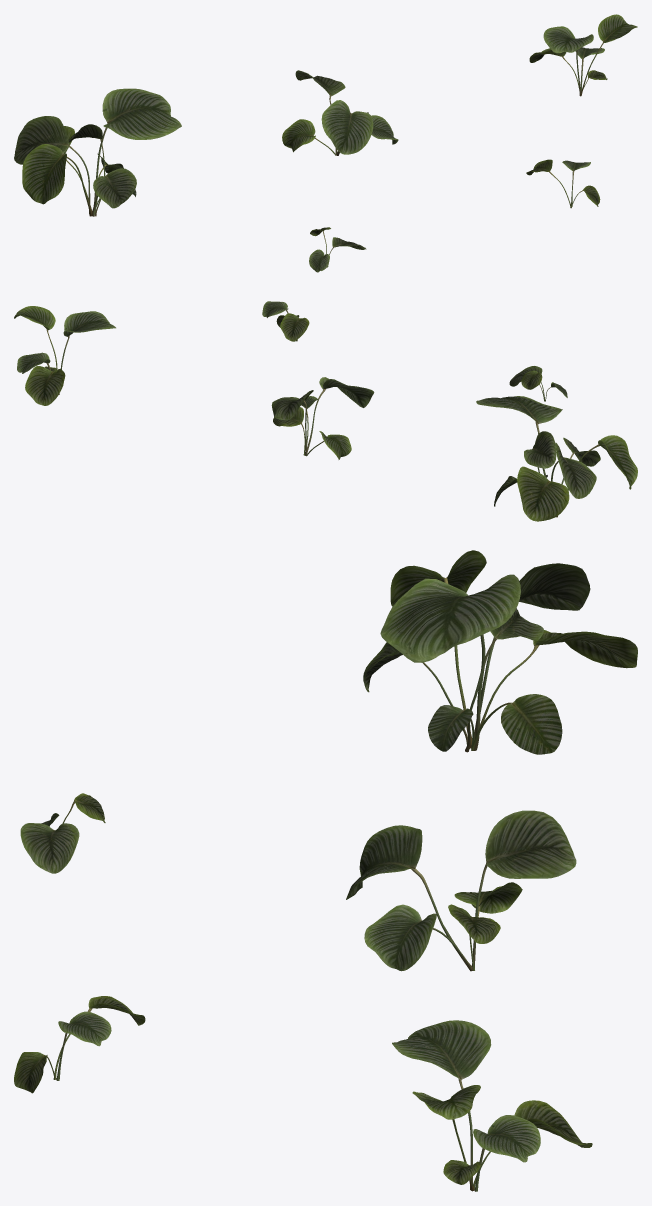
File: calathea_orbifolia_01.glb
3 views of the same model, one above another, from view 1: azimuth 30°, elevation 25°; view 2: azimuth 150°, elevation 25°; view 3: azimuth 270°, elevation 25° (orthographic). The views are drawn at different scales.
Parts seen in each view (by area): view 1: calathea_orbifolia_01_a; view 2: calathea_orbifolia_01_a; view 3: calathea_orbifolia_01_a.
Boxes of the visible parts, x1,y1,x2,y2 form: calathea_orbifolia_01_a: (14,14,637,272); calathea_orbifolia_01_a: (14,301,637,521); calathea_orbifolia_01_a: (14,550,637,1191).
Size of the model in its own units: 2.49 by 0.4243 by 1.19.
Materials: 1 (1 with a texture image).
